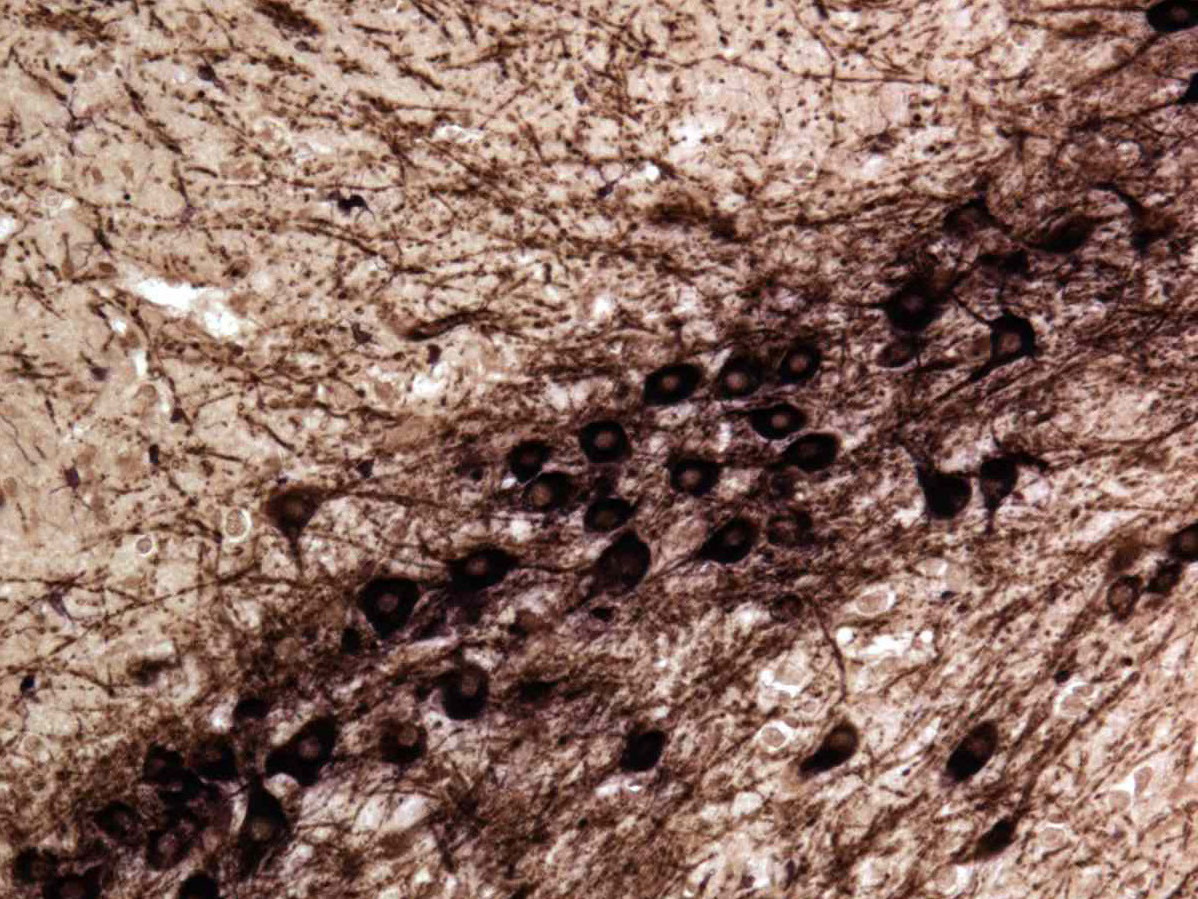neuron: (793, 724, 864, 780), (943, 721, 1007, 782), (262, 482, 323, 536), (449, 542, 510, 596), (518, 472, 574, 516), (577, 419, 633, 463), (701, 521, 754, 562), (776, 344, 826, 385), (585, 497, 633, 535), (672, 455, 720, 493), (756, 397, 804, 435), (716, 364, 764, 402), (645, 368, 693, 406), (877, 332, 925, 370), (986, 322, 1034, 360), (887, 286, 935, 324), (923, 474, 971, 512), (981, 455, 1029, 493), (1150, 1, 1198, 38), (196, 739, 235, 780), (243, 806, 282, 847), (289, 727, 328, 768), (385, 721, 424, 762), (450, 668, 489, 709), (368, 581, 407, 622), (512, 436, 545, 469), (21, 853, 52, 885), (99, 803, 130, 835), (150, 831, 181, 863), (135, 742, 166, 774), (162, 778, 185, 802)
